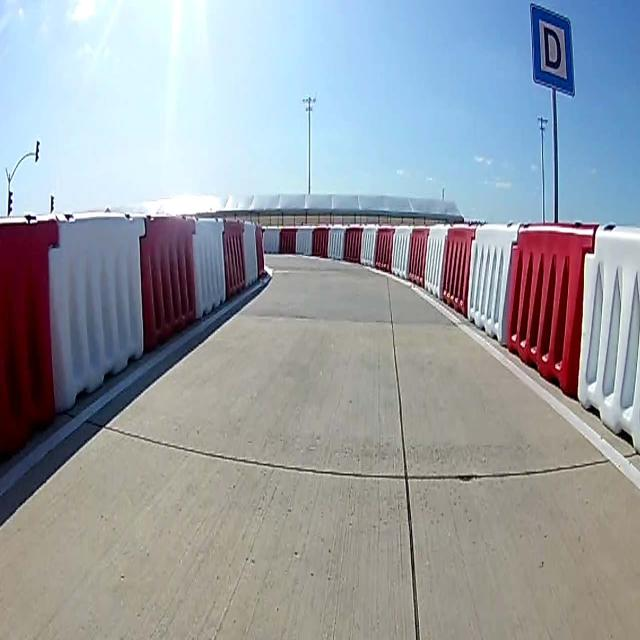durak: (528, 3, 573, 92)
